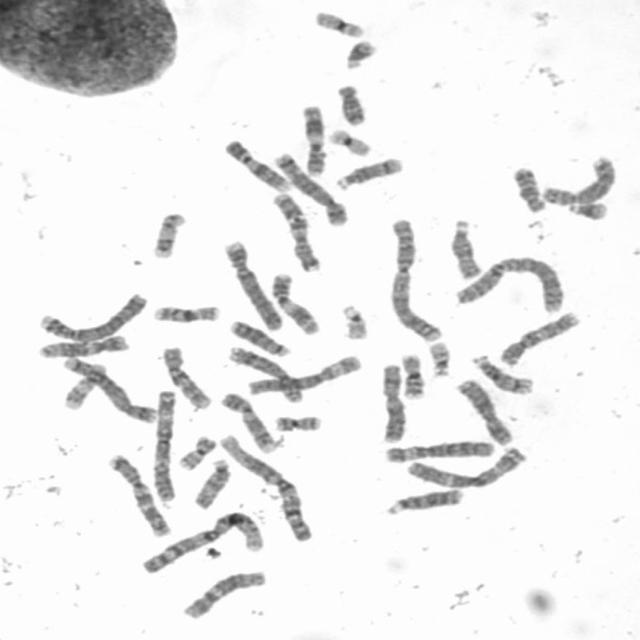A1: (217, 432, 314, 542), (138, 509, 268, 576)
A2: (385, 216, 445, 344), (449, 253, 566, 314)
A3: (402, 444, 529, 490), (148, 387, 179, 504)
B4: (34, 290, 150, 344), (220, 237, 284, 332)
B5: (59, 354, 158, 424), (270, 150, 350, 228)
C10: (494, 309, 582, 367), (158, 344, 213, 411)
C11: (266, 269, 323, 337), (298, 101, 328, 178)
C12: (178, 567, 268, 621), (34, 333, 130, 359)
C6: (242, 352, 364, 396), (381, 437, 496, 465)
C7: (104, 451, 172, 538), (269, 189, 323, 273)
C8: (225, 344, 305, 404), (538, 154, 618, 207)
C9: (221, 137, 291, 193), (218, 391, 278, 454)
D13: (226, 318, 292, 358), (382, 485, 465, 516)
D14: (468, 351, 536, 396), (333, 154, 404, 192)
D15: (446, 217, 483, 280), (190, 456, 232, 511)
E16: (150, 301, 221, 326), (398, 349, 428, 401)
E17: (60, 360, 108, 412), (150, 209, 188, 261)
E18: (510, 163, 547, 214), (334, 82, 367, 128)
F19: (312, 7, 366, 38), (327, 126, 373, 158)
F20: (174, 432, 218, 470), (270, 411, 326, 433)
G21: (340, 37, 377, 71), (564, 198, 610, 222)
G22: (338, 302, 372, 342), (425, 339, 454, 380)
X: (453, 376, 515, 447), (376, 360, 406, 444)
